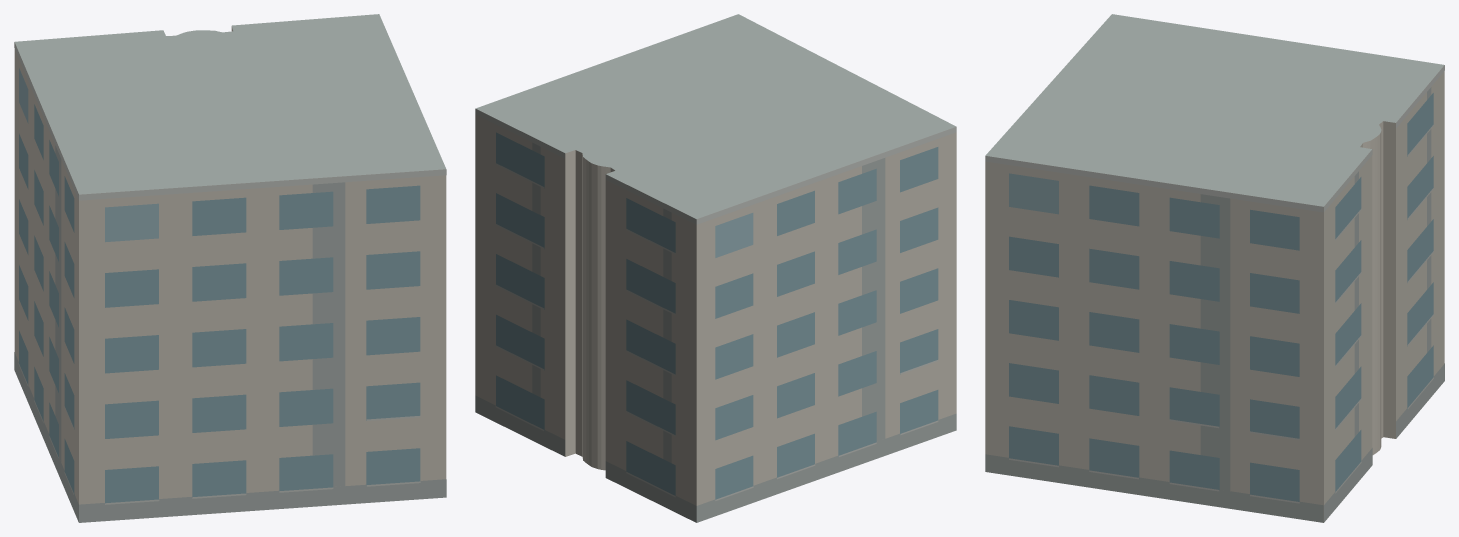
Rendered from survey-upis-33036295.glb.
The picture shows the model from 3 angles, left to right: view 1: azimuth 30°, elevation 25°; view 2: azimuth 150°, elevation 25°; view 3: azimuth 270°, elevation 25°; orthographic projection. The views are drawn at different scales.
Visible parts, largest first — view 1: survey-upis-33036295.tmp; view 2: survey-upis-33036295.tmp; view 3: survey-upis-33036295.tmp.
Part boxes in pixels (x1,y1,x2,y2): survey-upis-33036295.tmp: (14,14,446,522); survey-upis-33036295.tmp: (475,14,956,522); survey-upis-33036295.tmp: (985,14,1444,522).
Size of the model in its own units: 17.28 by 13.2 by 17.4.
